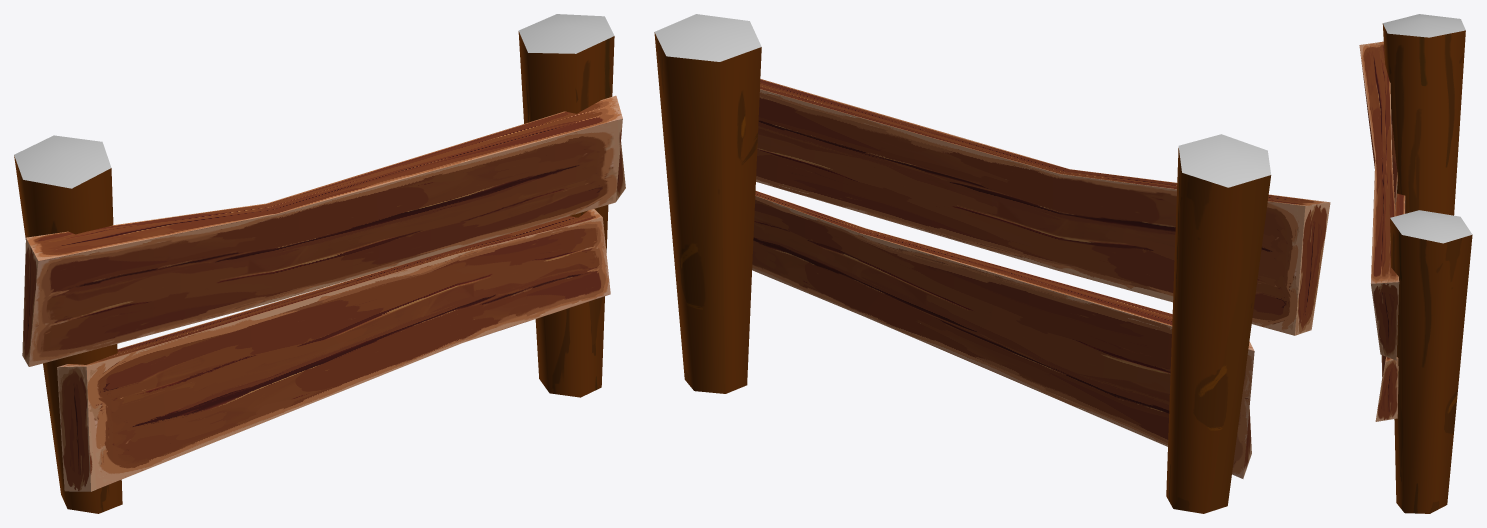
Rendered from SM_PROP_fence_v03_01.fbx.
The picture shows the model from 3 angles, left to right: view 1: azimuth 30°, elevation 25°; view 2: azimuth 150°, elevation 25°; view 3: azimuth 270°, elevation 25°; orthographic projection. The views are drawn at different scales.
Visible parts, largest first — view 1: SM_PROP_fence_v03_01; view 2: SM_PROP_fence_v03_01; view 3: SM_PROP_fence_v03_01.
Boxes of the visible parts, x1,y1,x2,y2 form: SM_PROP_fence_v03_01: (14,14,625,513); SM_PROP_fence_v03_01: (654,14,1330,513); SM_PROP_fence_v03_01: (1359,14,1472,513).
Bounding box in the file's own units: 213 × 117 × 41.86.
